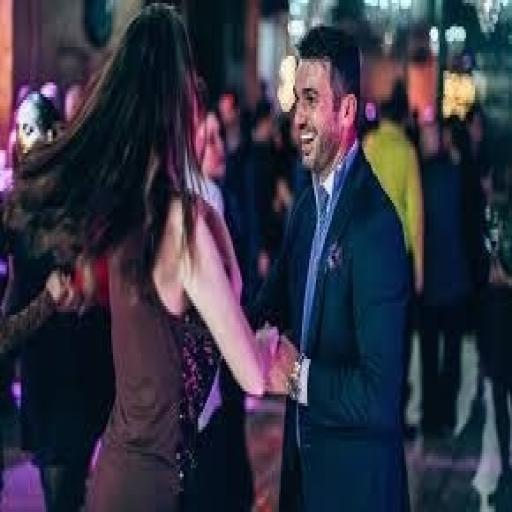dancing: (80, 24, 416, 512)
